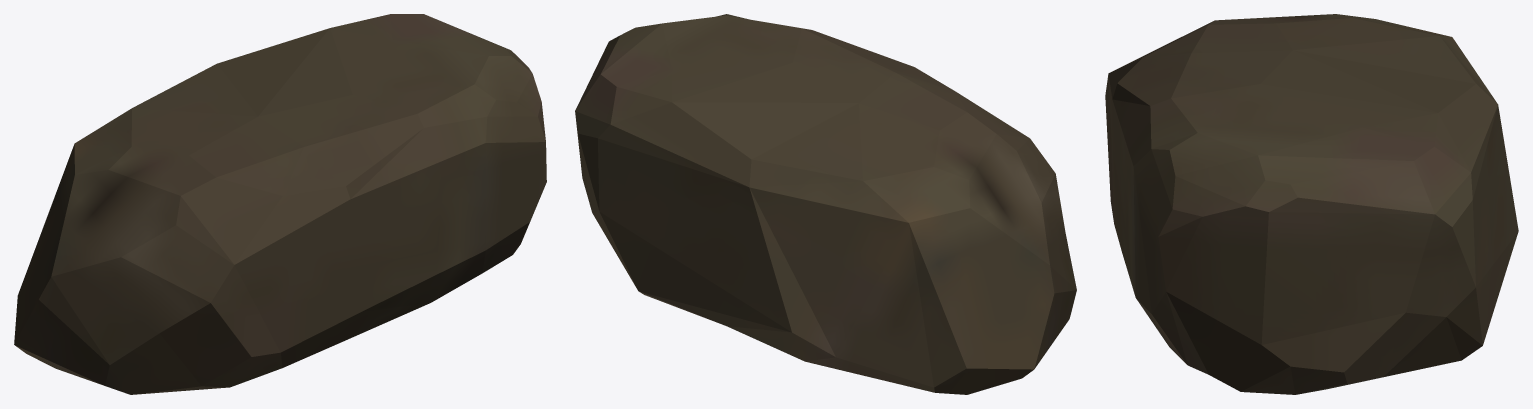
The model's file is Rock3.fbx.
The picture shows the model from 3 angles, left to right: view 1: azimuth 30°, elevation 25°; view 2: azimuth 150°, elevation 25°; view 3: azimuth 270°, elevation 25°; orthographic projection. The views are drawn at different scales.
Visible parts, largest first — view 1: Eff_Model_Rock_02_04; view 2: Eff_Model_Rock_02_04; view 3: Eff_Model_Rock_02_04.
Boxes of the visible parts, left/top/right/bottom form: Eff_Model_Rock_02_04: left=14, top=14, right=546, bottom=394; Eff_Model_Rock_02_04: left=575, top=14, right=1076, bottom=394; Eff_Model_Rock_02_04: left=1105, top=14, right=1518, bottom=394.
Bounding box in the file's own units: 212 × 106 × 133.
